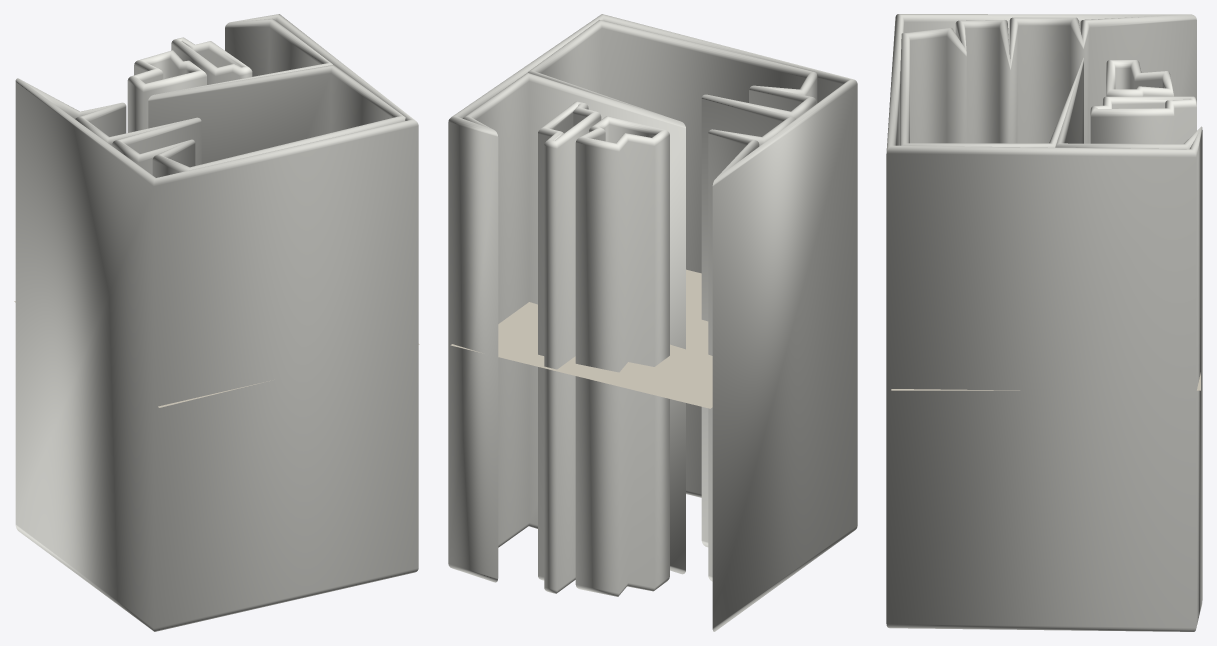
File: 8cdf8033-8b62-4b1d-8356-2422f88f90f0_model.glb
The picture shows the model from 3 angles, left to right: view 1: azimuth 30°, elevation 25°; view 2: azimuth 150°, elevation 25°; view 3: azimuth 270°, elevation 25°; orthographic projection. The views are drawn at different scales.
Parts seen in each view (by area): view 1: wall_2, wall_0, wall_1; view 2: wall_2, wall_0, wall_1, Floor; view 3: wall_2, wall_1, wall_0.
Part boxes in pixels (x1=…): wall_2: x1=15, y1=14, x2=418, y2=631; wall_0: x1=127, y1=50, x2=206, y2=132; wall_1: x1=171, y1=37, x2=252, y2=84; wall_2: x1=448, y1=14, x2=857, y2=631; wall_0: x1=575, y1=116, x2=669, y2=596; wall_1: x1=538, y1=101, x2=601, y2=593; Floor: x1=450, y1=269, x2=712, y2=408; wall_2: x1=886, y1=14, x2=1202, y2=631; wall_1: x1=1090, y1=96, x2=1196, y2=143; wall_0: x1=1106, y1=60, x2=1173, y2=96.
Bounding box in the file's own units: 3.81 × 6.15 × 3.65.
